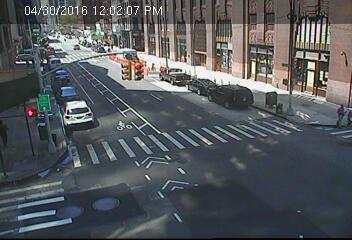neg: (171, 66, 194, 95), (143, 56, 162, 81), (233, 75, 250, 98)
pos: (326, 101, 347, 128)
